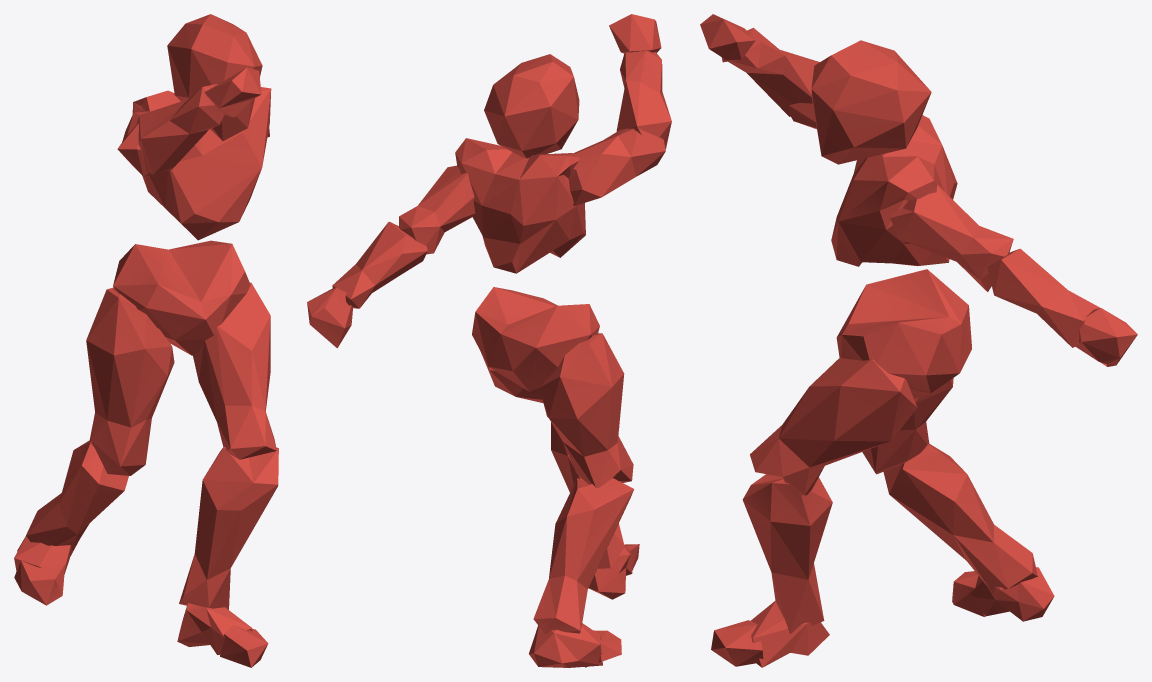
File: 2dancer0172.obj
The picture shows the model from 3 angles, left to right: view 1: azimuth 30°, elevation 25°; view 2: azimuth 150°, elevation 25°; view 3: azimuth 270°, elevation 25°; orthographic projection. The views are drawn at different scales.
Parts seen in each view (by area): view 1: Beta_Surface; view 2: Beta_Surface; view 3: Beta_Surface.
Boxes of the visible parts, x1,y1,x2,y2 form: Beta_Surface: (14, 14, 278, 667); Beta_Surface: (307, 14, 671, 667); Beta_Surface: (700, 14, 1137, 667).
Bounding box in the file's own units: 0.8391 × 1.76 × 1.09.
